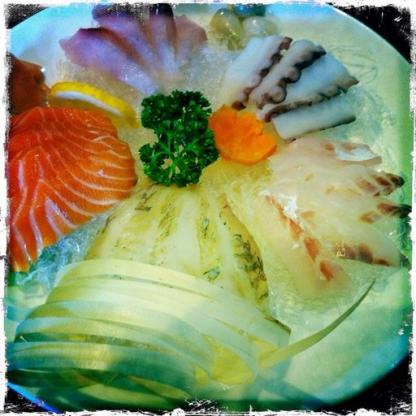salmon: (1, 109, 141, 263)
